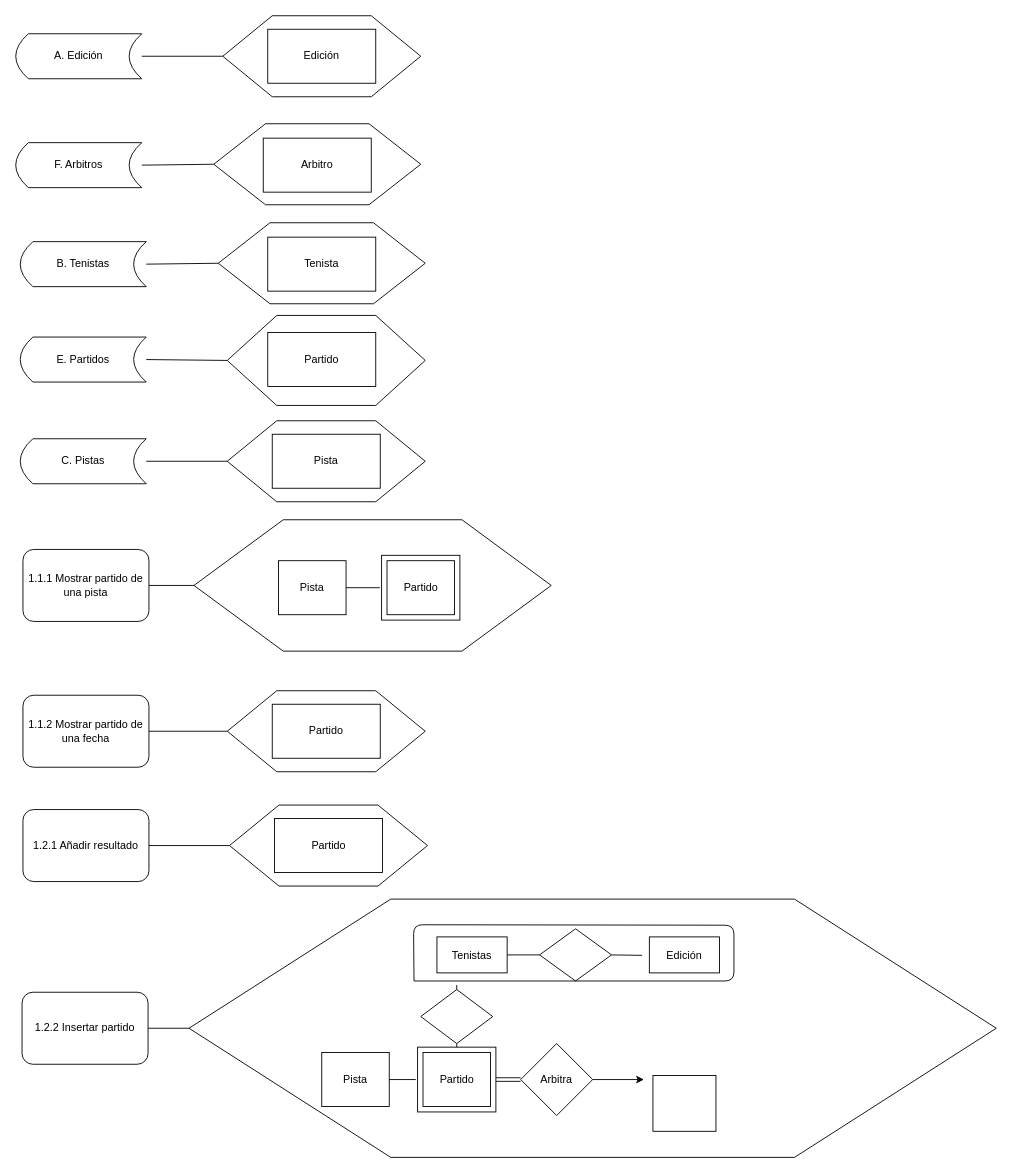
This 1013x1174 diagram has some shape labels left out. The shapes that lost their labels are listed below. From the top down, each one's centre as x and y in pixels, then its label:
the point at 575,954: Participa
the point at 456,1016: Compiten
the point at 684,1103: Árbitro
